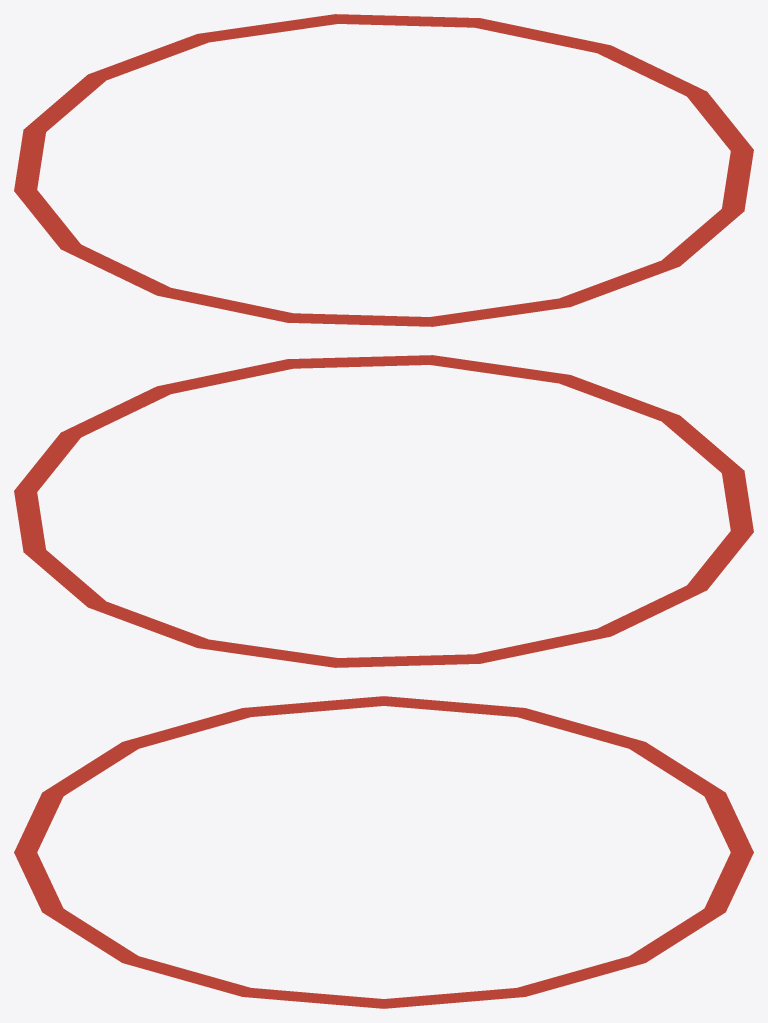
3 views of the same model, one above another, from view 1: azimuth 30°, elevation 25°; view 2: azimuth 150°, elevation 25°; view 3: azimuth 270°, elevation 25° (orthographic).
Parts seen in each view (by area): view 1: Circle; view 2: Circle; view 3: Circle.
Boxes of the visible parts, left/top/right/bottom form: Circle: left=14, top=14, right=753, bottom=326; Circle: left=14, top=355, right=753, bottom=667; Circle: left=14, top=696, right=753, bottom=1008.
Size of the model in its own units: 6.54 by 0 by 6.54.
